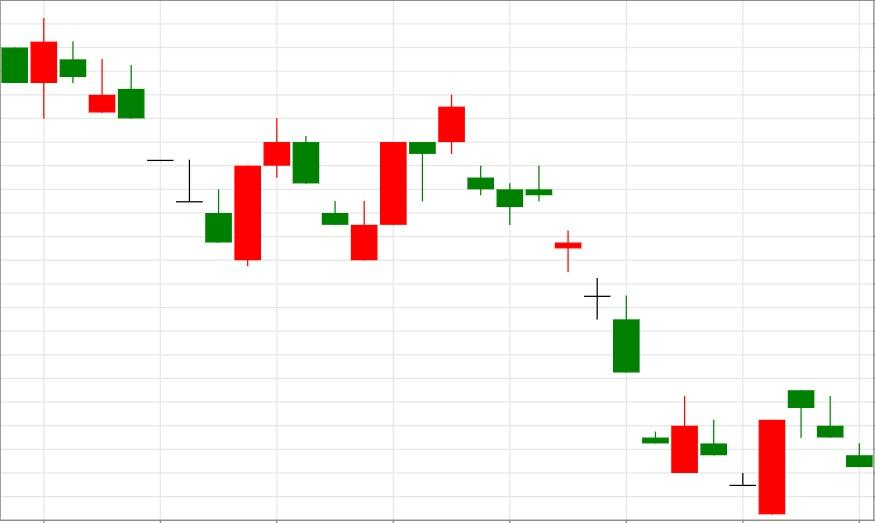bullish_engulfing_rise: (29, 17, 262, 267), (524, 164, 700, 474)
